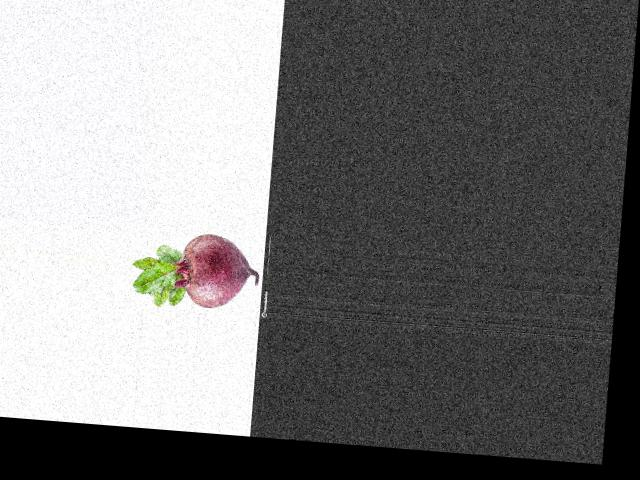beet: (129, 227, 261, 314)
